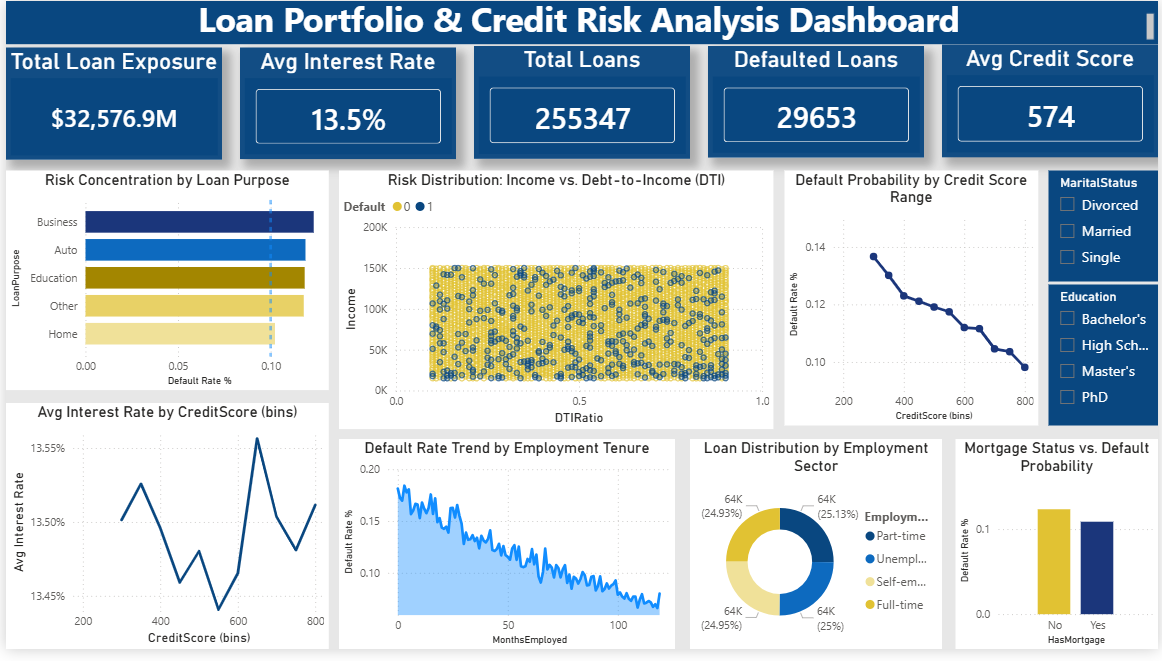

Layout of this report page (visuals, bound fields, positions):
{"tool":"powerbi","page":{"name":"Page 1","canvas":[1280,720],"ordinal":0},"visuals":[{"type":"cardVisual","title":"Total Loan Exposure","fields":{"Data":["Loan_default.Total Loan Amount"]},"box":[0,51,240,124.7],"z":0},{"type":"cardVisual","title":"Avg Credit Score","fields":{"Data":["Loan_default.Avg Credit Score"]},"box":[1039.8,47.7,240.2,125.7],"z":1},{"type":"cardVisual","title":"Defaulted Loans","fields":{"Data":["Loan_default.Defaulted Loans"]},"box":[780.1,49.3,240.2,124.1],"z":3},{"type":"cardVisual","title":"Total Loans","fields":{"Data":["Loan_default.Total Loans"]},"box":[520,49.3,240.2,125.7],"z":4},{"type":"cardVisual","title":"Avg Interest Rate","fields":{"Data":["Loan_default.Avg Interest Rate"]},"box":[259.9,50.9,240.2,124.1],"z":5},{"type":"textbox","box":[0,0,1280.4,47.7],"z":6},{"type":"clusteredBarChart","title":"Risk Concentration by Loan Purpose","fields":{"Category":["Loan_default.LoanPurpose"],"Y":["Loan_default.Default Rate %"]},"box":[0,188.6,358.6,244.3],"z":7},{"type":"lineChart","title":"Default Probability by Credit Score Range","fields":{"Category":["Loan_default.CreditScore (bins)"],"Y":["Loan_default.Default Rate %"]},"box":[865,188.3,281.7,283.3],"z":8},{"type":"scatterChart","title":"Risk Distribution: Income vs. Debt-to-Income (DTI)","fields":{"X":["Loan_default.DTIRatio"],"Y":["Loan_default.Income"],"Series":["Loan_default.Default"]},"box":[370,188.6,482.9,287.1],"z":9},{"type":"donutChart","title":"Loan Distribution by Employment Sector","fields":{"Category":["Loan_default.EmploymentType"],"Y":["Loan_default.Total Loans"]},"box":[760,486.7,280,233.3],"z":10},{"type":"areaChart","title":"Default Rate Trend by Employment Tenure","fields":{"Category":["Loan_default.MonthsEmployed"],"Y":["Loan_default.Default Rate %"]},"box":[370,486.7,373.3,233.3],"z":11},{"type":"barChart","title":"Mortgage Status vs. Default Probability","fields":{"Category":["Loan_default.HasMortgage"],"Y":["Loan_default.Default Rate %"]},"box":[1055,486.7,225,233.3],"z":12},{"type":"slicer","fields":{"Values":["Loan_default.Education"]},"box":[1158.3,315,121.7,156.7],"z":13},{"type":"slicer","fields":{"Values":["Loan_default.MaritalStatus"]},"box":[1158.3,188.3,121.7,123.3],"z":14},{"type":"lineChart","fields":{"Y":["Loan_default.Avg Interest Rate"],"Category":["Loan_default.CreditScore (bins)"]},"box":[0,446.7,358.3,273.3],"z":15}]}

Visuals, with their boxes in screenshot pixels (x1, y1, x2, y2), scaled from the page's 1280x720 canvas onto the 1162x661 screenshot:
"Total Loan Exposure" cardVisual: 0 47 218 161
"Avg Credit Score" cardVisual: 944 44 1161 159
"Defaulted Loans" cardVisual: 708 45 926 159
"Total Loans" cardVisual: 472 45 690 161
"Avg Interest Rate" cardVisual: 236 47 454 161
textbox: 0 0 1161 44
"Risk Concentration by Loan Purpose" clusteredBarChart: 0 173 326 397
"Default Probability by Credit Score Range" lineChart: 785 173 1041 433
"Risk Distribution: Income vs. Debt-to-Income (DTI)" scatterChart: 336 173 774 437
"Loan Distribution by Employment Sector" donutChart: 690 447 944 660
"Default Rate Trend by Employment Tenure" areaChart: 336 447 675 660
"Mortgage Status vs. Default Probability" barChart: 958 447 1161 660
slicer - Loan_default.Education: 1052 289 1161 433
slicer - Loan_default.MaritalStatus: 1052 173 1161 286
lineChart - Loan_default.Avg Interest Rate x Loan_default.CreditScore (bins): 0 410 325 660
